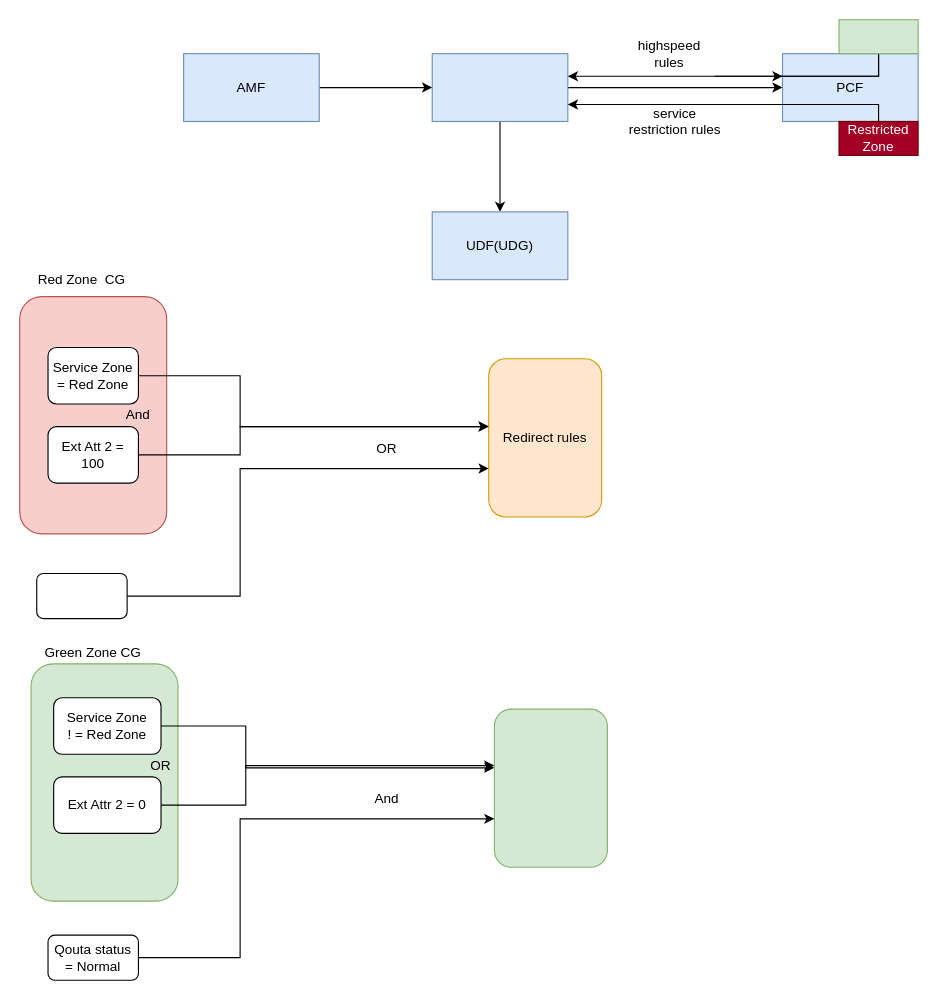
Some shapes in this 938 by 1000 pixel diagram are drawn without their labels. Each missing label, with the centre of its shape:
Allowed zone: [878,36]
Normal Rules: [550,787]
Qouta status = Exhaust: [81,595]
SMF: [499,87]
